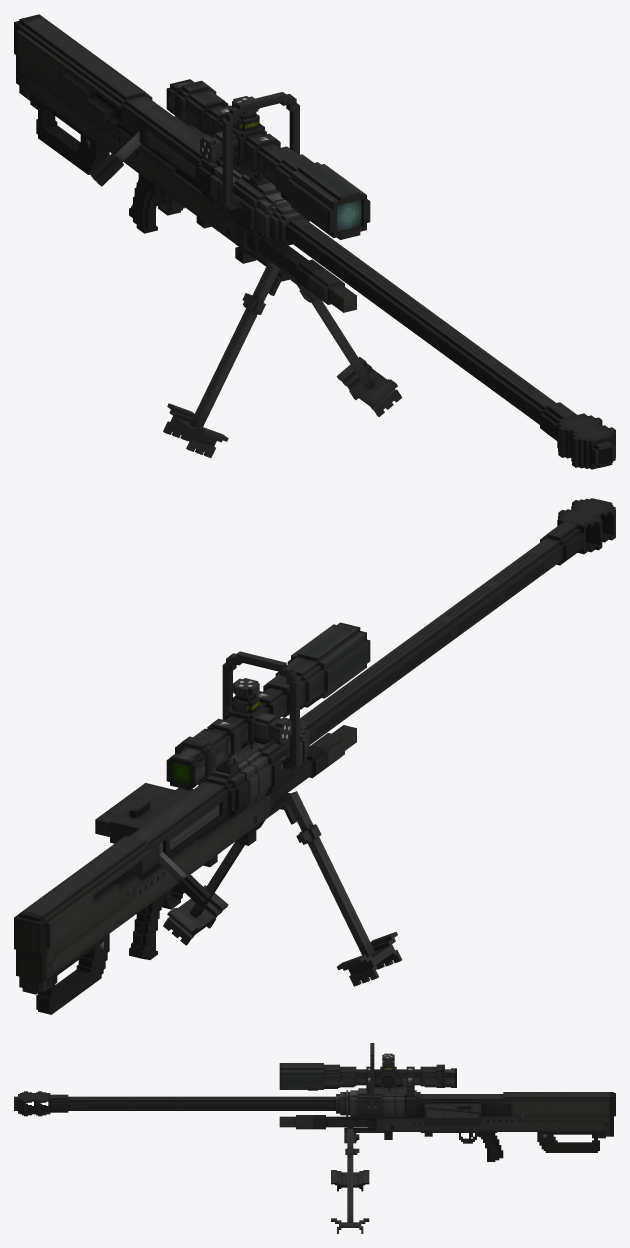
Rendered from RD_NTW20.glb.
3 renders of one model, top to bottom at view 1: azimuth 30°, elevation 25°; view 2: azimuth 150°, elevation 25°; view 3: azimuth 270°, elevation 25°, orthographic. The views are drawn at different scales.
Visible parts, largest first — view 1: NTW20, SCOPE_LEUPOLD_ULTRA, NTW20_DIPOD_LEG1, NTW20_DIPOD_LEG2, SCOPE_LEUPOLD, NTW20_BOLT_P2, NTW20_BOLT_P1; view 2: NTW20, SCOPE_LEUPOLD_ULTRA, NTW20_DIPOD_LEG1, SCOPE_LEUPOLD, NTW20_DIPOD_LEG2, NTW20_CLIP, NTW20_BOLT_P1, NTW20_BOLT_P2; view 3: NTW20, SCOPE_LEUPOLD_ULTRA, SCOPE_LEUPOLD, NTW20_DIPOD_LEG2, NTW20_CLIP, NTW20_DIPOD_LEG1.
Part boxes in pixels (x1,y1,x2,y2): NTW20: (14, 14, 615, 469); SCOPE_LEUPOLD_ULTRA: (175, 80, 370, 239); NTW20_DIPOD_LEG1: (163, 263, 279, 457); NTW20_DIPOD_LEG2: (297, 285, 402, 416); SCOPE_LEUPOLD: (166, 79, 309, 220); NTW20_BOLT_P2: (90, 131, 141, 186); NTW20_BOLT_P1: (121, 108, 195, 175); NTW20: (14, 498, 615, 1014); SCOPE_LEUPOLD_ULTRA: (175, 622, 370, 781); NTW20_DIPOD_LEG1: (285, 791, 402, 986); SCOPE_LEUPOLD: (166, 690, 335, 790); NTW20_DIPOD_LEG2: (163, 819, 265, 945); NTW20_CLIP: (95, 783, 174, 836); NTW20_BOLT_P1: (138, 804, 219, 874); NTW20_BOLT_P2: (159, 852, 211, 907); NTW20: (14, 1043, 615, 1161); SCOPE_LEUPOLD_ULTRA: (279, 1053, 444, 1095); SCOPE_LEUPOLD: (308, 1062, 456, 1094); NTW20_DIPOD_LEG2: (331, 1128, 369, 1233); NTW20_CLIP: (426, 1109, 478, 1125); NTW20_DIPOD_LEG1: (331, 1127, 369, 1191).
Size of the model in its own units: 0.63 by 0.8818 by 2.94.
3 materials, 3 textured.
